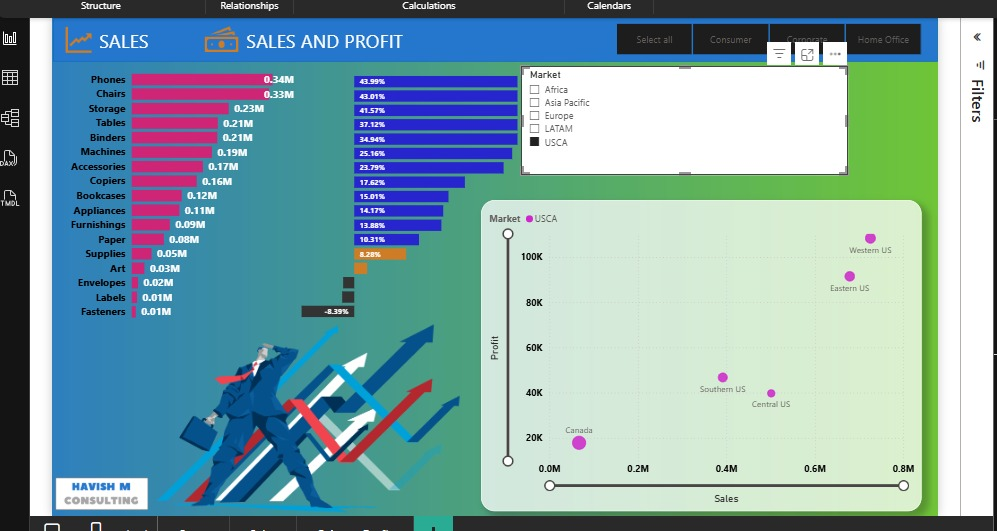

Layout of this report page (visuals, bound fields, positions):
{"tool":"powerbi","page":{"name":"Sales vs Profit","canvas":[1280,720],"ordinal":2},"visuals":[{"type":"shape","box":[0.9,0,1279.1,63.1],"z":0},{"type":"scatterChart","fields":{"Y":["Sum(Table13.Profit)"],"X":["Sum(Table13.Sales)"],"Category":["Table13.Region"],"Size":["Table13.PM"],"Series":["Table13.Market"]},"box":[678.1,254.5,529.2,133],"z":1000},{"type":"image","box":[0,656.9,143.8,63.1],"z":2000},{"type":"image","box":[136.8,437.6,465.7,282.4],"z":3000},{"type":"barChart","fields":{"Category":["Table13.Sub-Category"],"Y":["Table13.PM"]},"box":[340.9,70.3,336.8,366.7],"z":4000},{"type":"barChart","fields":{"Y":["Sum(Table13.Sales)"],"Category":["Table13.Sub-Category"]},"box":[20.7,59.9,334.7,387.4],"z":5000},{"type":"image","box":[2.7,0,70.3,63.1],"z":6000},{"type":"shape","box":[49.6,0,110,63.1],"z":7000},{"type":"image","box":[210,0,70.3,63.1],"z":8000},{"type":"shape","box":[265,0,259.6,63.1],"z":9000},{"type":"slicer","fields":{"Values":["Table13.Segment"]},"box":[790.5,1.8,489.5,57.7],"z":10000},{"type":"slicer","fields":{"Values":["Table13.Market"]},"box":[678.1,69.4,472.8,157.6],"z":11000},{"type":"tableEx","fields":{"Values":["Table13.Customer Name","Sum(Table13.Sales)","Sum(Table13.Profit)"]},"box":[678.1,438.1,514.7,260.2],"z":11001}]}

Visuals, with their boxes on the page's 1280x720 design canvas (x1, y1, x2, y2). These are canvas units, not pixel positions in the 997x531 screenshot, which may show the page scaled, cropped or inside an application window:
shape: box=[1, 0, 1280, 63]
scatterChart - Sum(Table13.Profit) x Sum(Table13.Sales): box=[678, 254, 1207, 388]
image: box=[0, 657, 144, 720]
image: box=[137, 438, 602, 720]
barChart - Table13.Sub-Category x Table13.PM: box=[341, 70, 678, 437]
barChart - Sum(Table13.Sales) x Table13.Sub-Category: box=[21, 60, 355, 447]
image: box=[3, 0, 73, 63]
shape: box=[50, 0, 160, 63]
image: box=[210, 0, 280, 63]
shape: box=[265, 0, 525, 63]
slicer - Table13.Segment: box=[790, 2, 1280, 60]
slicer - Table13.Market: box=[678, 69, 1151, 227]
tableEx - Table13.Customer Name x Sum(Table13.Sales): box=[678, 438, 1193, 698]
